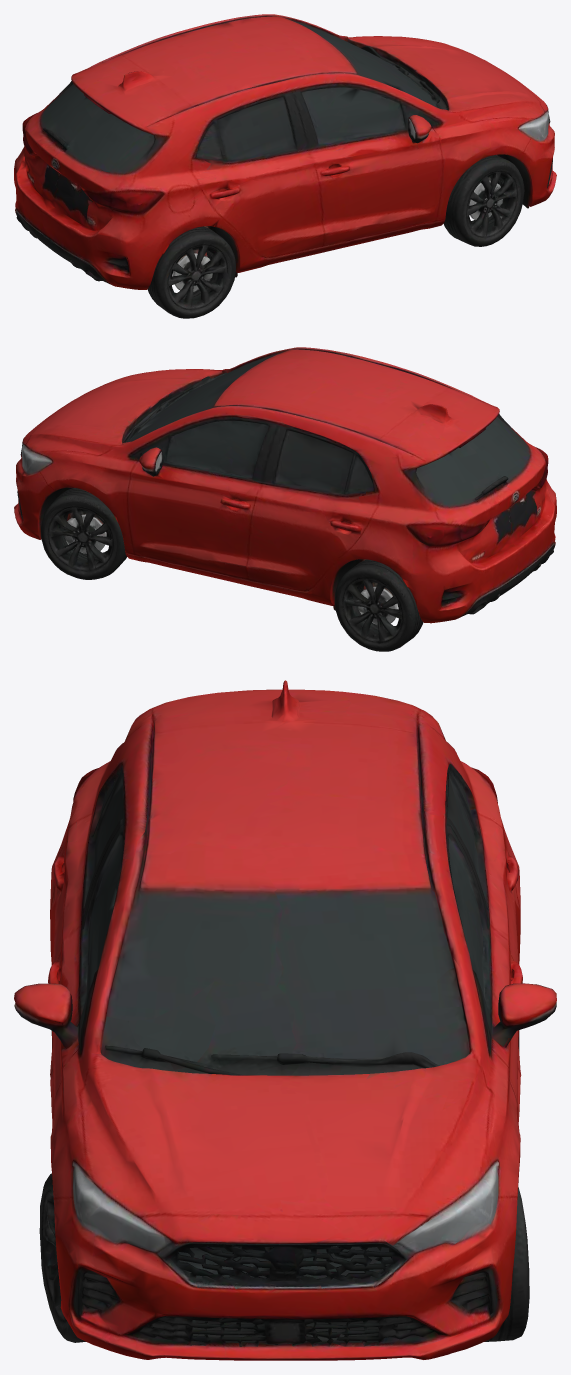
The model's file is car-hatch-hf.glb.
3 renders of one model, top to bottom at view 1: azimuth 30°, elevation 25°; view 2: azimuth 150°, elevation 25°; view 3: azimuth 270°, elevation 25°, orthographic. The views are drawn at different scales.
Visible parts, largest first — view 1: tripo_node_0899b2fc-c136-4af8-a3b2-10d2411d33e1; view 2: tripo_node_0899b2fc-c136-4af8-a3b2-10d2411d33e1; view 3: tripo_node_0899b2fc-c136-4af8-a3b2-10d2411d33e1.
Part boxes in pixels (bbox=[...]): tripo_node_0899b2fc-c136-4af8-a3b2-10d2411d33e1: bbox=[14, 14, 556, 318]; tripo_node_0899b2fc-c136-4af8-a3b2-10d2411d33e1: bbox=[14, 347, 556, 651]; tripo_node_0899b2fc-c136-4af8-a3b2-10d2411d33e1: bbox=[14, 680, 556, 1360].
Bounding box in the file's own units: 1 × 0.405 × 0.5275.
1 material, 1 textured.
